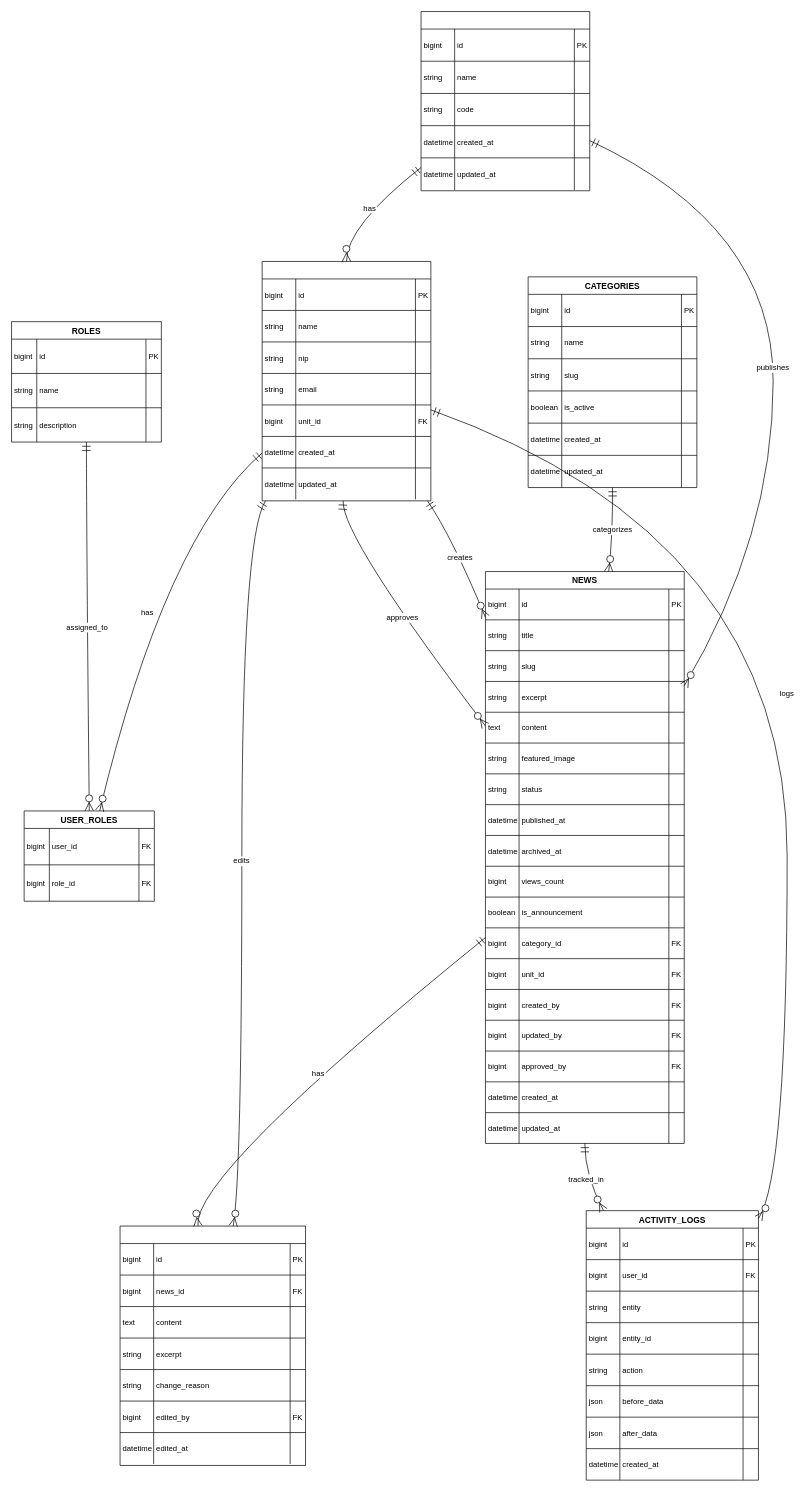
Image size: 807x1492. Some labels were removed from this diagram. Here are the shapes that lost their labels. From the top down, the box of each, then its label:
(420, 11, 590, 191): UNITS
(261, 261, 431, 501): USERS
(119, 1225, 306, 1465): NEWS_REVISIONS
